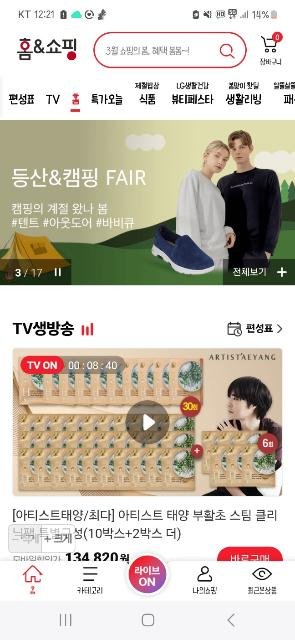Bottom_Navigation: (0, 561, 295, 603)
EditText: (95, 32, 245, 68)
Icon: (260, 32, 284, 52), (23, 564, 42, 584), (82, 566, 98, 584), (252, 568, 272, 580), (144, 412, 156, 432), (220, 44, 236, 58), (227, 322, 243, 336), (198, 566, 212, 582), (59, 614, 73, 628), (142, 614, 156, 628), (81, 322, 94, 336), (277, 266, 289, 278), (228, 612, 236, 628), (54, 268, 62, 276), (277, 324, 283, 334)
Image: (0, 120, 295, 285), (15, 349, 283, 497)
ImageButton: (125, 401, 170, 444)
Multi_Tab: (0, 78, 295, 118)
Text: (11, 168, 146, 228), (13, 507, 277, 523), (18, 36, 78, 59), (13, 321, 74, 337), (28, 360, 116, 370), (106, 46, 190, 54), (134, 566, 160, 588), (171, 94, 212, 106), (225, 93, 261, 105), (92, 94, 122, 105), (234, 267, 266, 277), (9, 93, 35, 105), (247, 324, 273, 334), (16, 268, 42, 278), (178, 82, 208, 90), (229, 81, 259, 89), (140, 92, 156, 106), (78, 586, 102, 594), (259, 57, 282, 65), (248, 588, 276, 594), (192, 588, 216, 594), (136, 82, 159, 88), (47, 95, 59, 104), (72, 94, 80, 105), (30, 586, 36, 594)
TextButton: (126, 555, 169, 595)
TextImageButton: (260, 33, 284, 66), (77, 565, 103, 595), (248, 568, 278, 594), (192, 566, 218, 594), (23, 564, 43, 594)
Toolbar: (0, 26, 295, 72)
UpperTaskBar: (0, 0, 295, 26)
